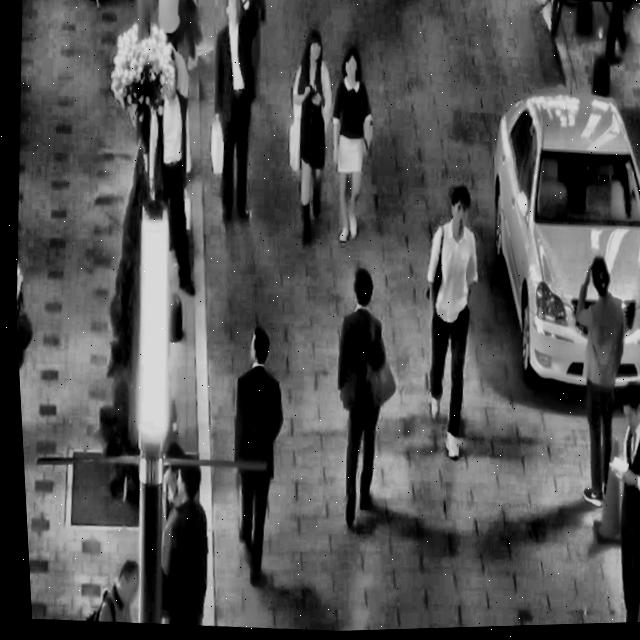light_vehicle: (465, 69, 640, 408)
